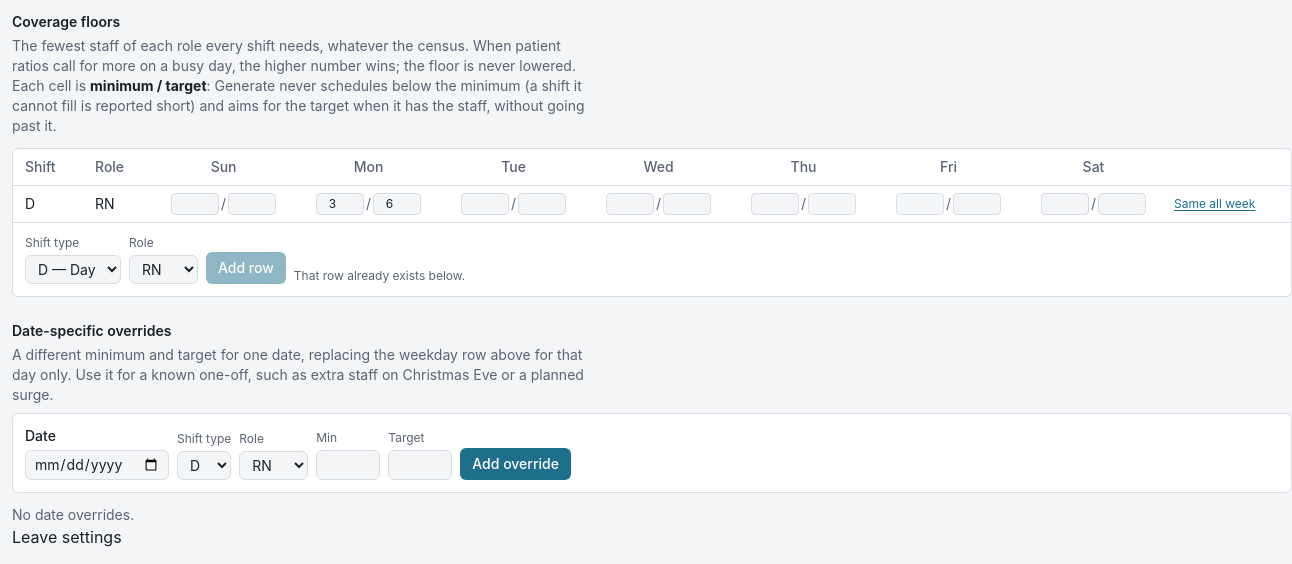
Test: Settings › Coverage floors › a cleared override is not saved as zero
Expected: the heading "Coverage floors" is shown, top-left (12, 13), bottom-right (120, 30)
Type "2026-12-24" into the date field labelled "Date" at (97, 465), box top-left (25, 450), bottom-right (169, 480)
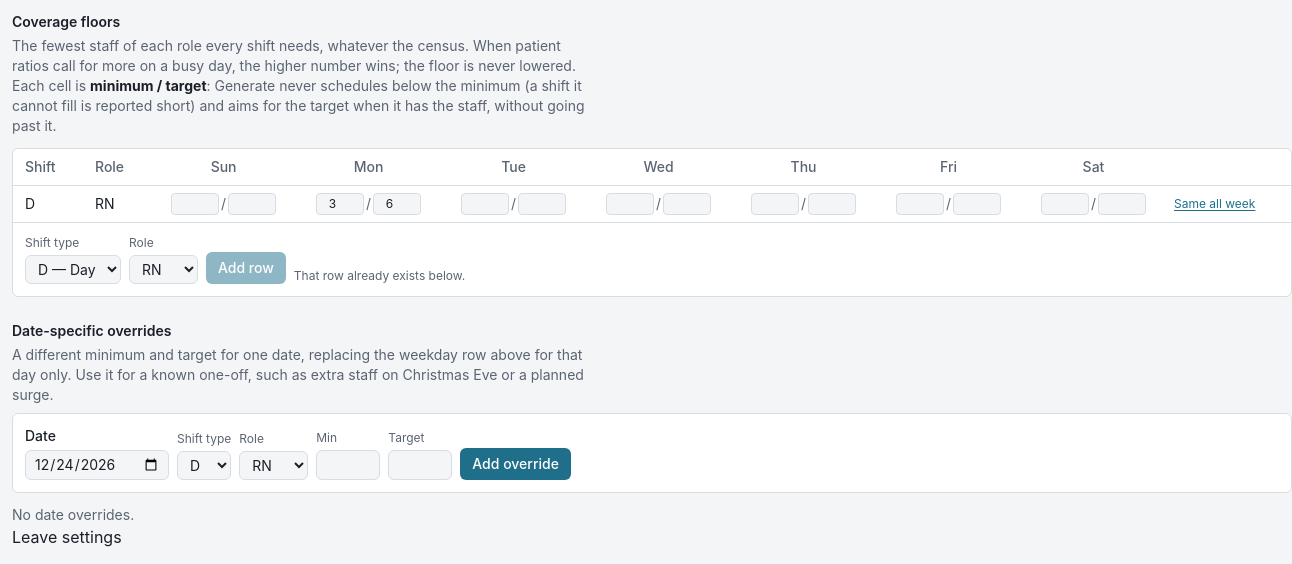
Click the button "Add override" at (516, 464), box top-left (460, 448), bottom-right (571, 480)
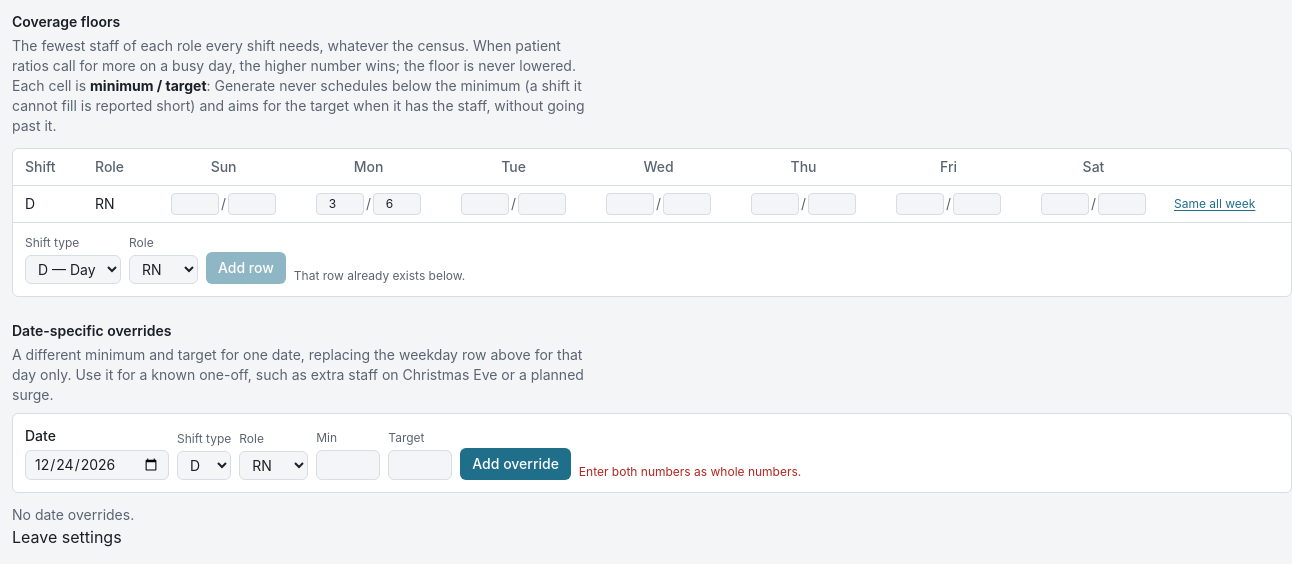
Expected: the text "Enter both numbers as whole numbers." is shown, top-left (579, 464), bottom-right (801, 480)
